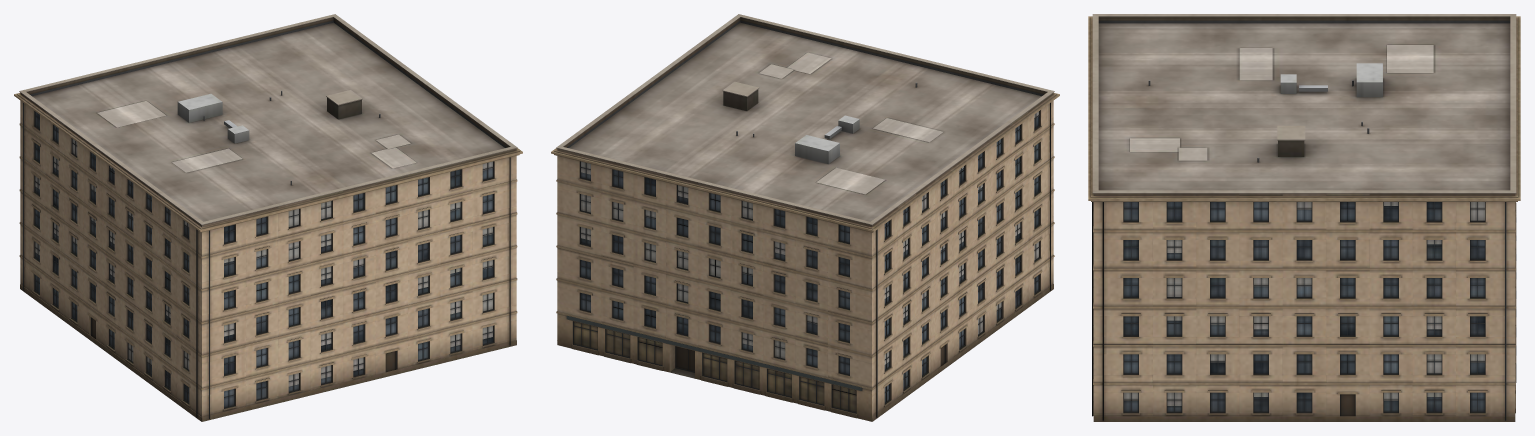
The picture shows the model from 3 angles, left to right: view 1: azimuth 30°, elevation 25°; view 2: azimuth 150°, elevation 25°; view 3: azimuth 270°, elevation 25°; orthographic projection. The views are drawn at different scales.
Parts seen in each view (by area): view 1: building; view 2: building; view 3: building.
Boxes of the visible parts, left/top/right/bottom form: building: left=14, top=14, right=522, bottom=421; building: left=551, top=14, right=1059, bottom=421; building: left=1088, top=14, right=1520, bottom=421.
Size of the model in its own units: 32.8 by 20.08 by 32.8.
Materials: 1 (1 with a texture image).
